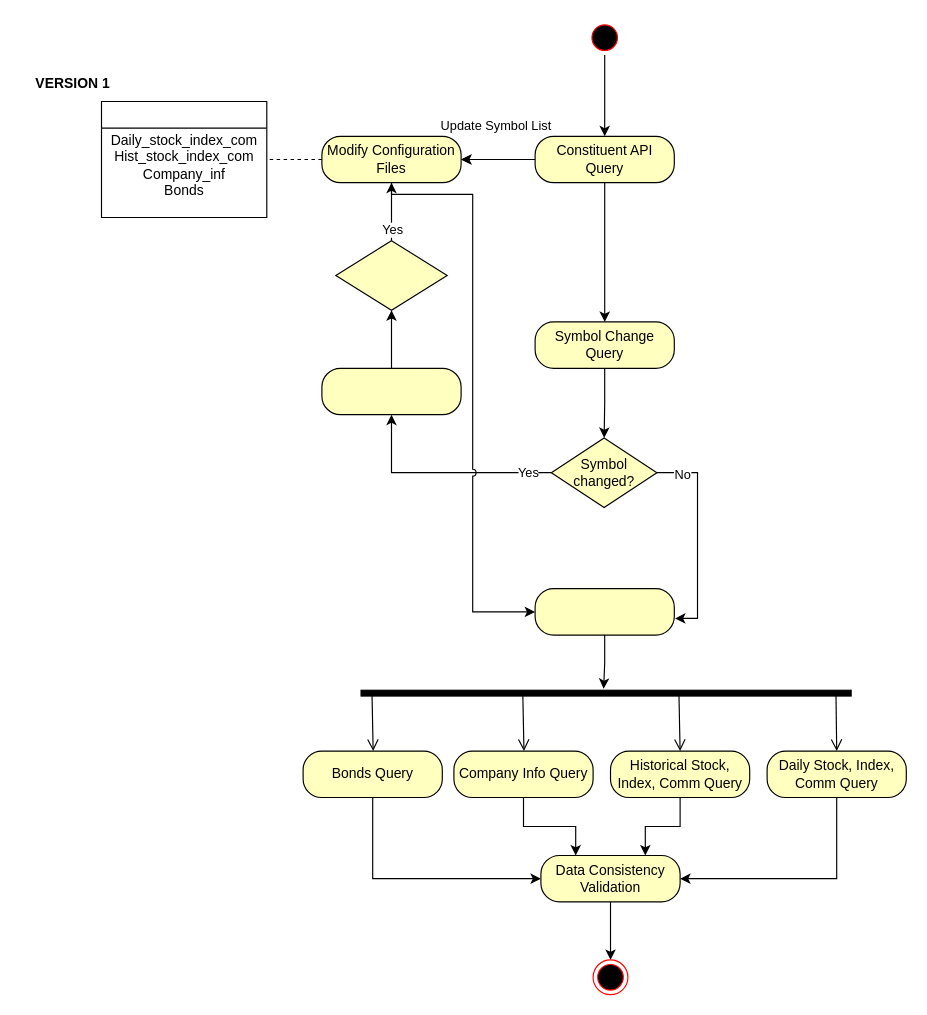
Image size: 927x1015. Some labels were removed from this diagram. Each missing label, with the box of its shape:
Configuration Files: (100, 100, 267, 217)
Output Symbol Changes: (321, 367, 461, 415)
Process Configuration files: (534, 588, 674, 635)
Symbol In Current Config: (335, 240, 447, 310)
